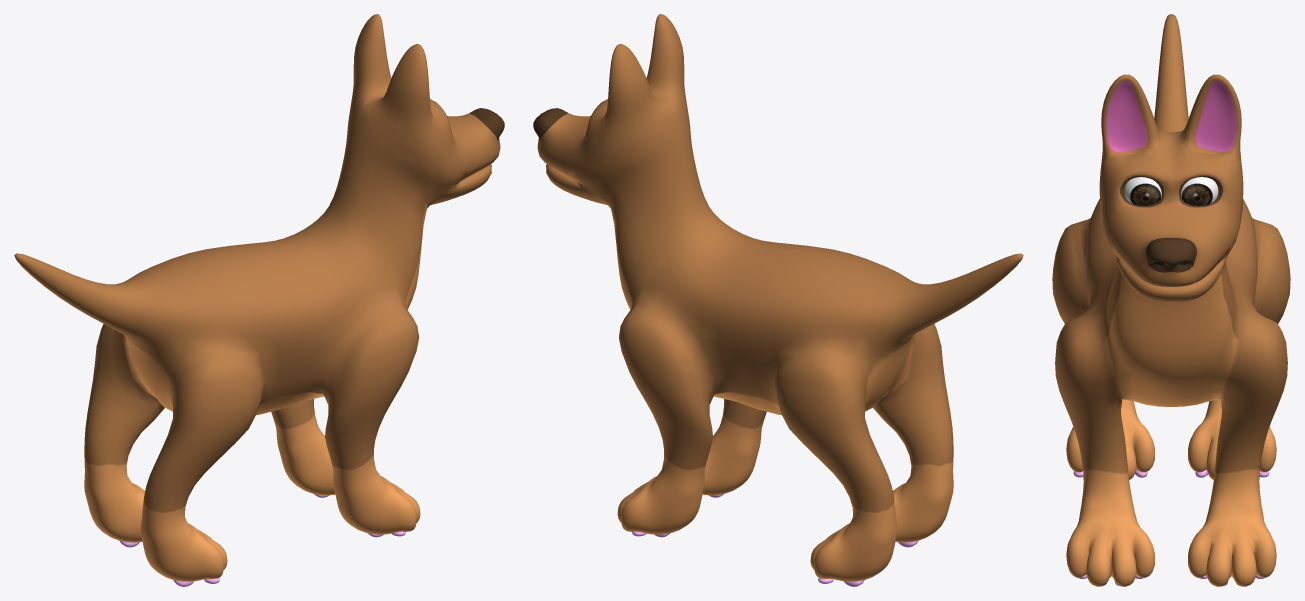
The model's file is TheDog.fbx.
3 views of the same model, side by side, from view 1: azimuth 30°, elevation 25°; view 2: azimuth 150°, elevation 25°; view 3: azimuth 270°, elevation 25° (orthographic). The views are drawn at different scales.
Visible parts, largest first — view 1: DogBody; view 2: DogBody; view 3: DogBody, Eyes.
Part boxes in pixels (x1,y1,x2,y2): DogBody: [14, 14, 504, 581]; DogBody: [533, 14, 1023, 581]; DogBody: [1052, 14, 1290, 586]; Eyes: [1124, 177, 1218, 205].
Size of the model in its own units: 783 by 724 by 296.
Materials: 3 (2 with a texture image).
